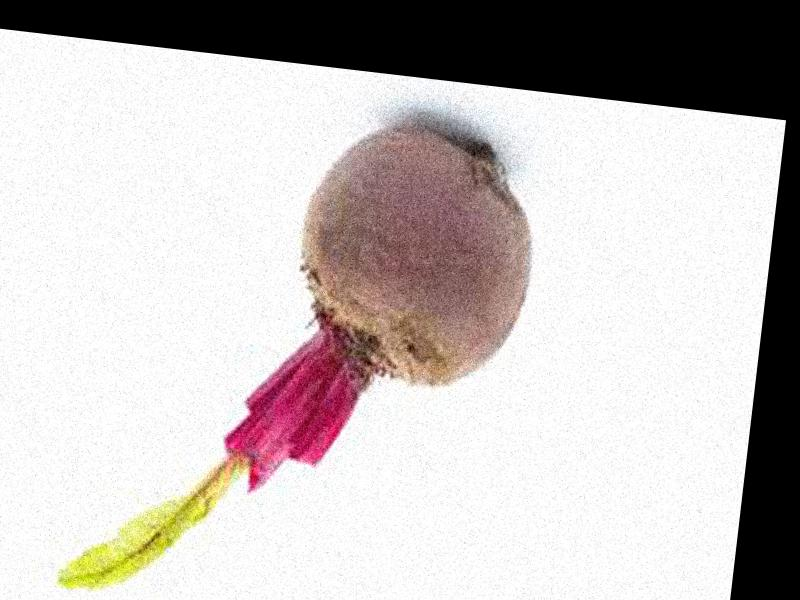Beet: (61, 94, 546, 600)
